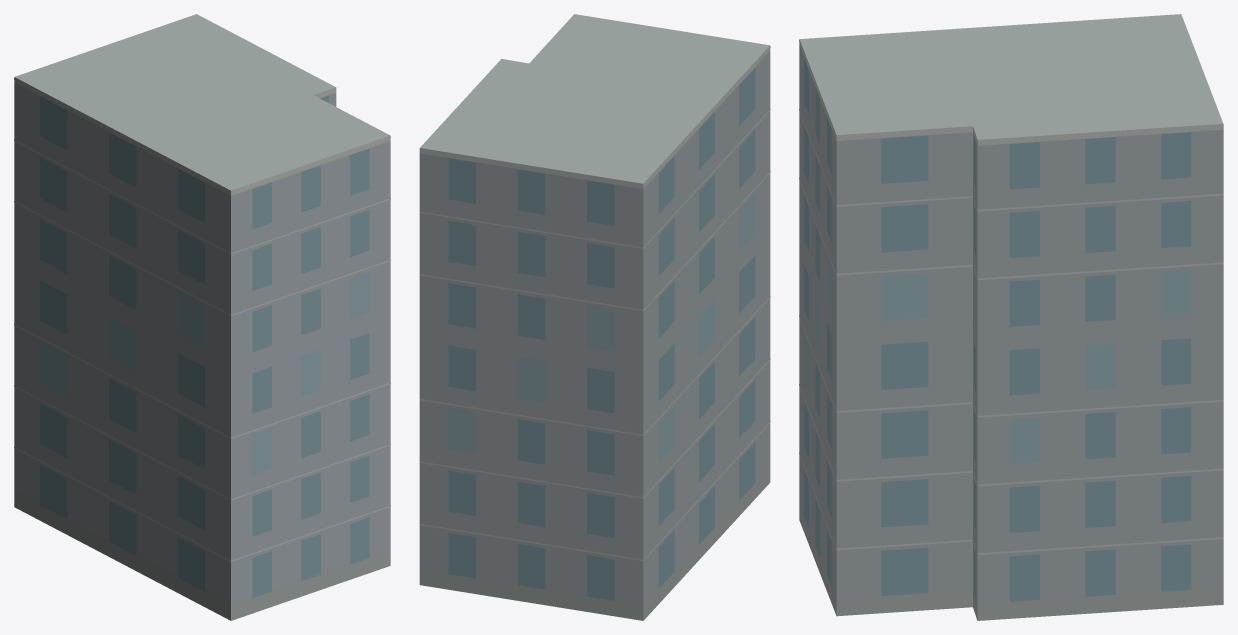
The model's file is survey-upis-32765750.glb.
The picture shows the model from 3 angles, left to right: view 1: azimuth 30°, elevation 25°; view 2: azimuth 150°, elevation 25°; view 3: azimuth 270°, elevation 25°; orthographic projection. The views are drawn at different scales.
Visible parts, largest first — view 1: survey-upis-32765750.tmp; view 2: survey-upis-32765750.tmp; view 3: survey-upis-32765750.tmp.
Boxes of the visible parts, x1,y1,x2,y2 form: survey-upis-32765750.tmp: (14, 14, 390, 620); survey-upis-32765750.tmp: (419, 14, 770, 620); survey-upis-32765750.tmp: (799, 14, 1223, 620).
Size of the model in its own units: 11.08 by 19.68 by 15.75.
